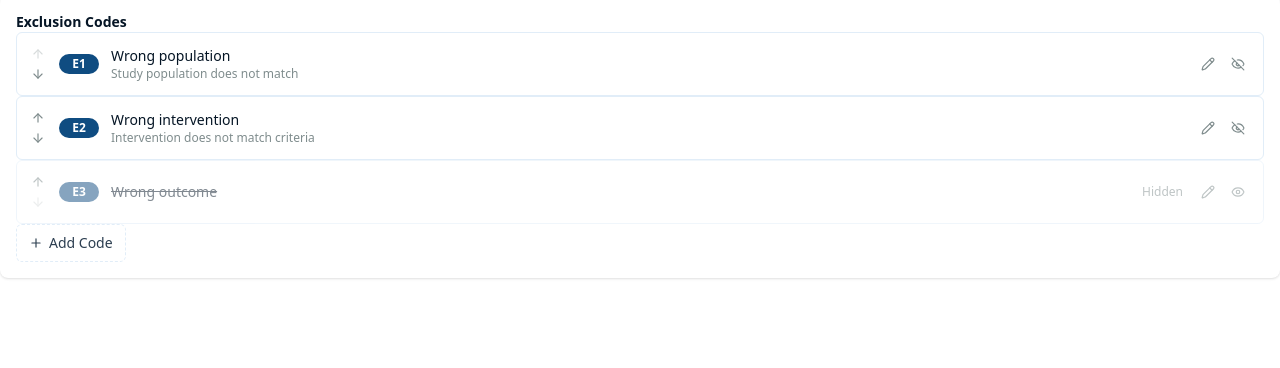
Test: ExclusionCodeManager › shows confirmation dialog when hiding a visible code
The width and height of the screenshot is (1280, 368).
Step 1. Click the button with test id "toggle-hide-ec-1" → [1238, 64], box [1225,51,1251,77]
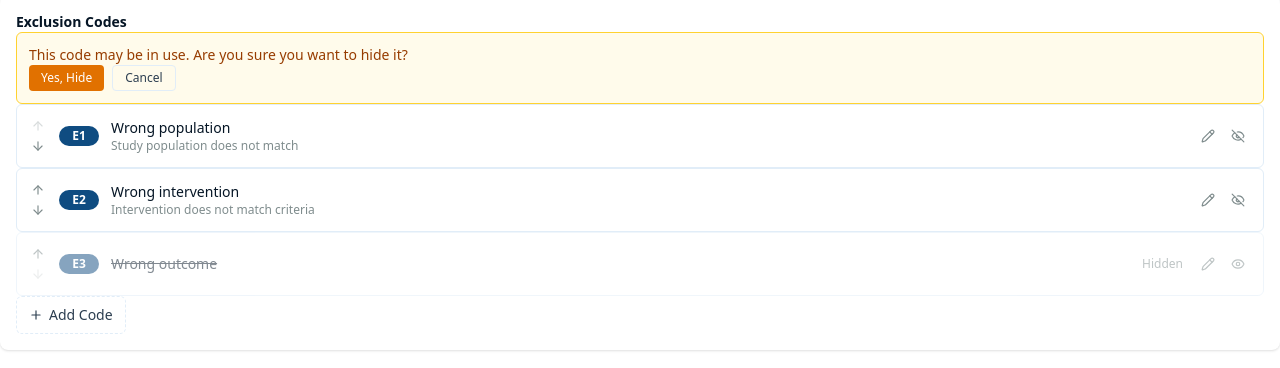
Expected: the element with test id "hide-confirmation-dialog" is shown, [16,32,1264,104]
